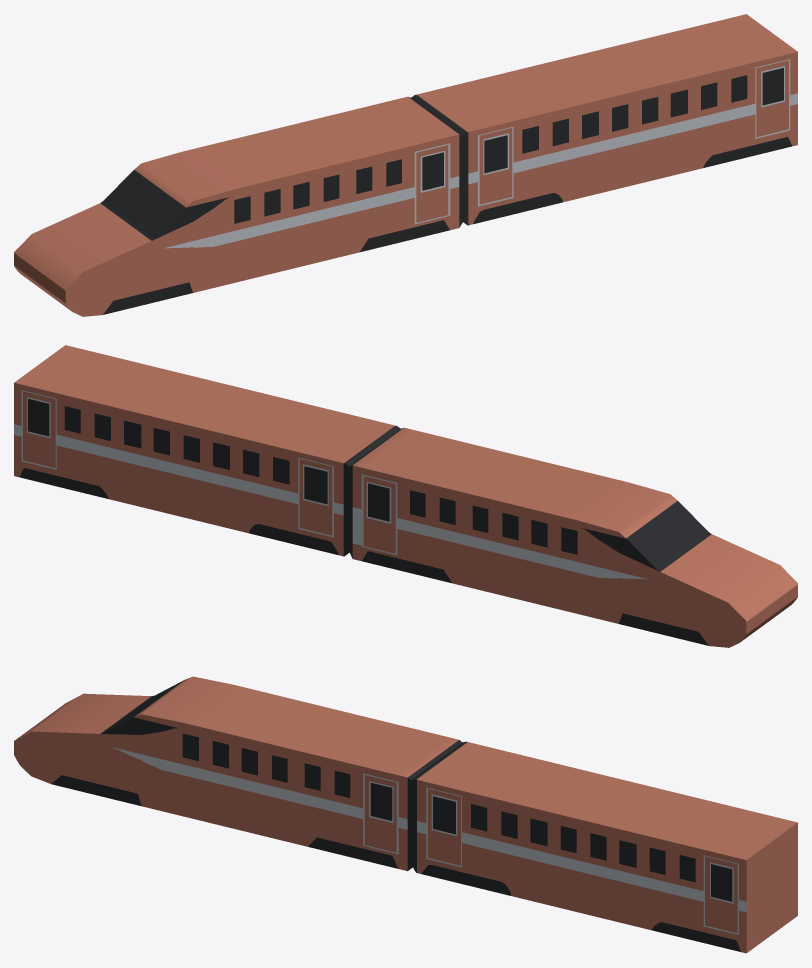
The model's file is Red_Train_01.fbx.
The picture shows the model from 3 angles, top to bottom: view 1: azimuth 30°, elevation 25°; view 2: azimuth 150°, elevation 25°; view 3: azimuth 330°, elevation 25°; orthographic projection.
Parts seen in each view (by area): view 1: Train_Red_01; view 2: Train_Red_01; view 3: Train_Red_01.
Part boxes in pixels (bbox=[...]): Train_Red_01: bbox=[14, 14, 797, 316]; Train_Red_01: bbox=[14, 345, 797, 647]; Train_Red_01: bbox=[14, 676, 797, 953].
Bounding box in the file's own units: 1232 × 151 × 151.
